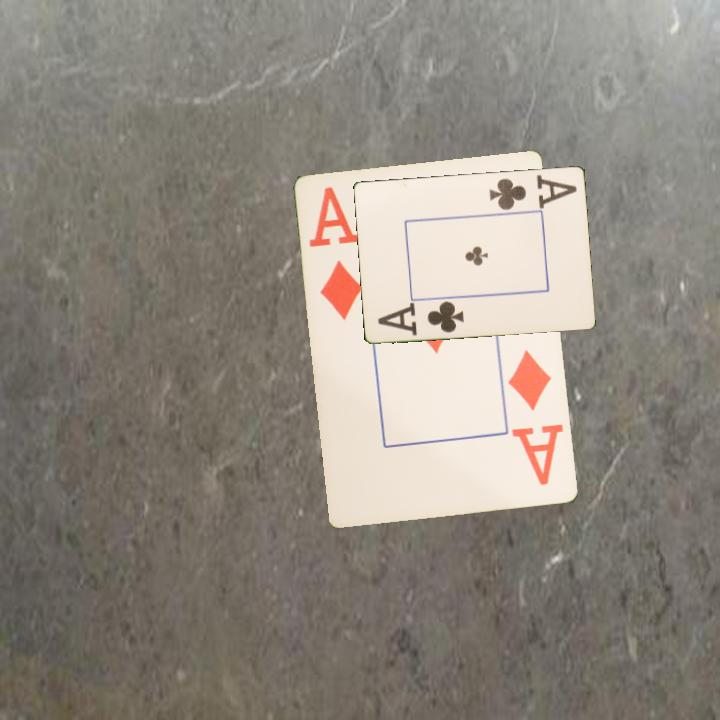Ac: (486, 170, 580, 212), (374, 297, 467, 338)
Ad: (505, 346, 567, 489), (305, 183, 366, 324)
